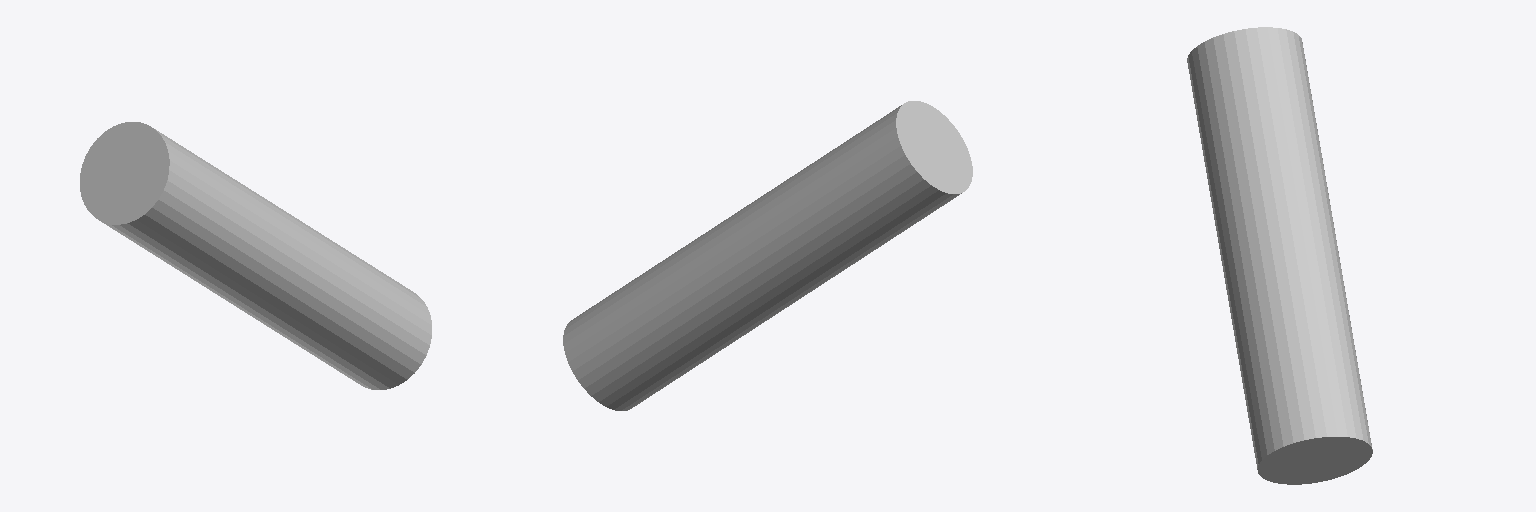
Rendered from mesh_upperleg_r2.obj.
3 views of the same model, side by side, from view 1: azimuth 30°, elevation 25°; view 2: azimuth 150°, elevation 25°; view 3: azimuth 270°, elevation 25° (orthographic).
Parts seen in each view (by area): view 1: Cylinder.003; view 2: Cylinder.003; view 3: Cylinder.003.
Boxes of the visible parts, box(x1,y1,x2,y2) form: Cylinder.003: box(80, 122, 431, 389); Cylinder.003: box(563, 101, 972, 410); Cylinder.003: box(1187, 27, 1372, 484).
Bounding box in the file's own units: 0.7761 × 0.7015 × 0.3485.